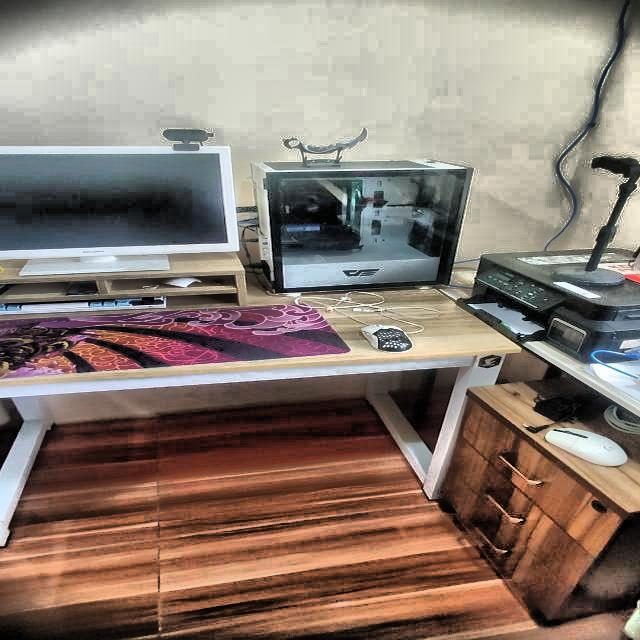mesa: (0, 283, 527, 550)
